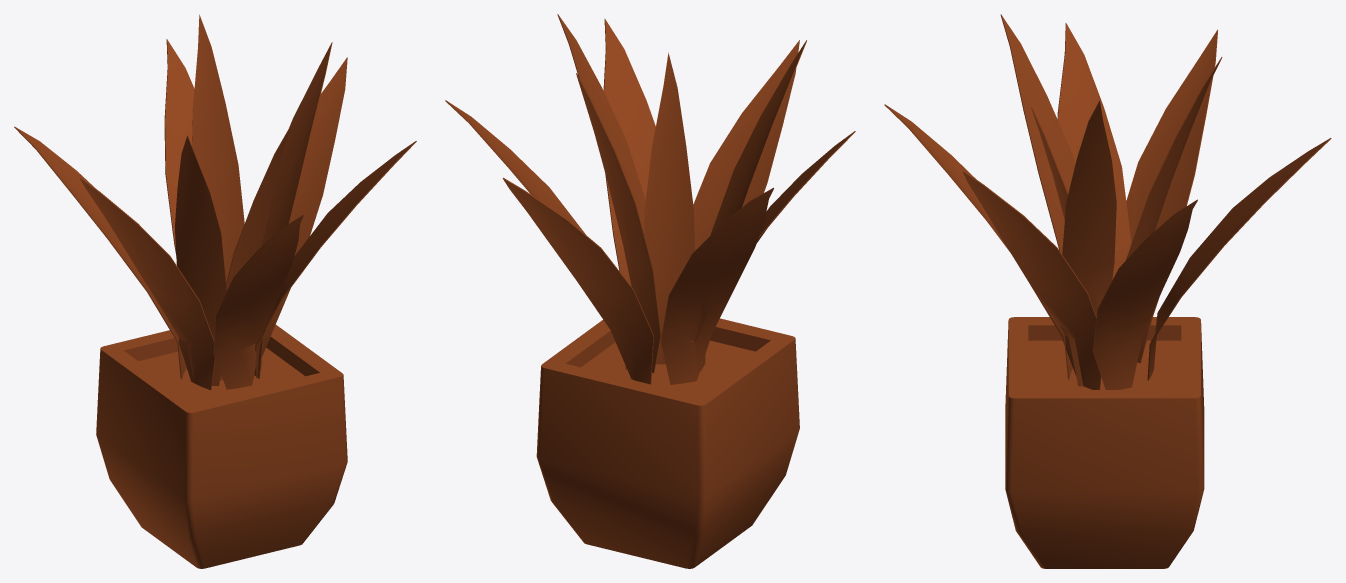
File: Plant.fbx
The picture shows the model from 3 angles, left to right: view 1: azimuth 30°, elevation 25°; view 2: azimuth 150°, elevation 25°; view 3: azimuth 270°, elevation 25°; orthographic projection. The views are drawn at different scales.
Parts seen in each view (by area): view 1: Plant; view 2: Plant; view 3: Plant.
Part boxes in pixels (x1,y1,x2,y2): Plant: [14, 14, 416, 568]; Plant: [445, 14, 855, 568]; Plant: [884, 14, 1331, 568].
Bounding box in the file's own units: 4433 × 6054 × 4893.
